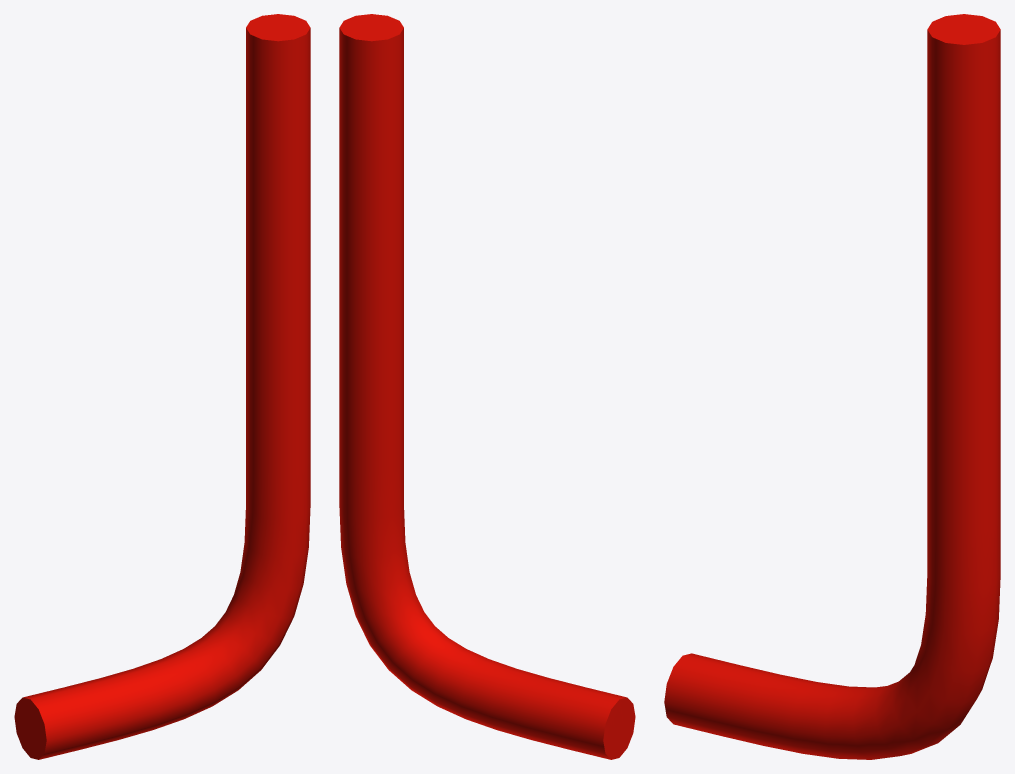
Rendered from Pipe.fbx.
The picture shows the model from 3 angles, left to right: view 1: azimuth 30°, elevation 25°; view 2: azimuth 150°, elevation 25°; view 3: azimuth 330°, elevation 25°; orthographic projection. The views are drawn at different scales.
Visible parts, largest first — view 1: Pipes.003; view 2: Pipes.003; view 3: Pipes.003.
Boxes of the visible parts, x1,y1,x2,y2 form: Pipes.003: (14,14,310,759); Pipes.003: (339,14,635,759); Pipes.003: (664,14,1000,759).
Size of the model in its own units: 104 by 240 by 21.
